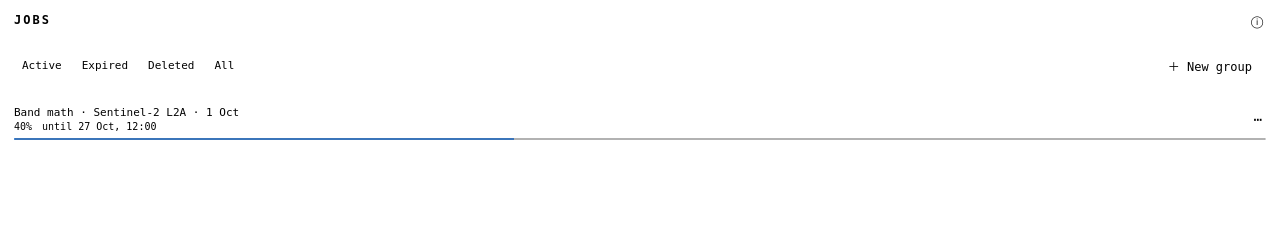
Test case: the menu of a row › closes on Escape and gives the focus back to its button
Click the button "⋯": x=1258, y=119 x1=1246 y1=107 x2=1270 y2=131
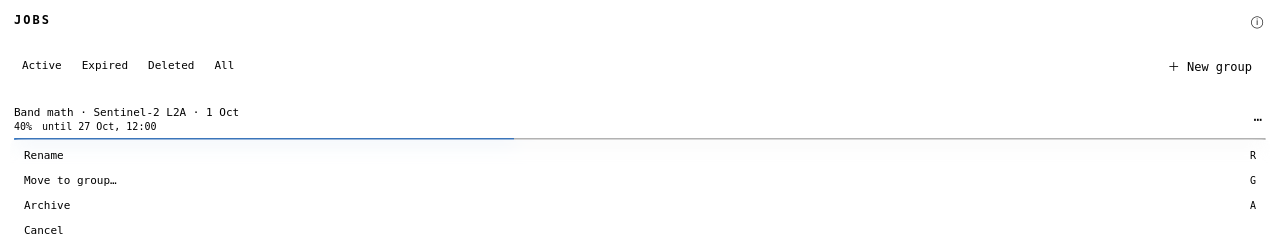
Press Escape in the menu item "Rename R", box x1=14 y1=143 x2=1266 y2=168
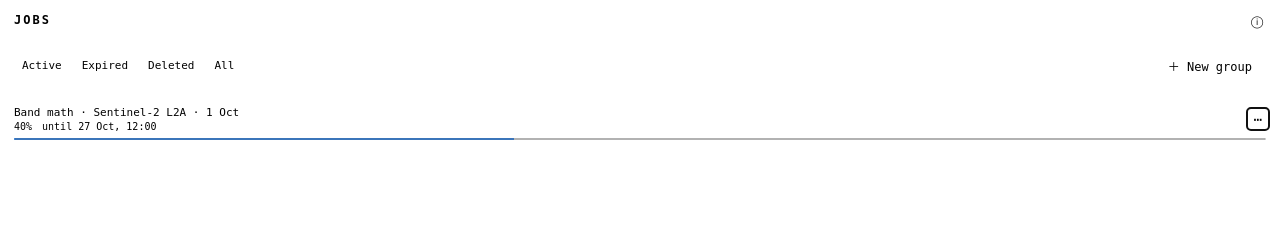
Result: the menu is gone
